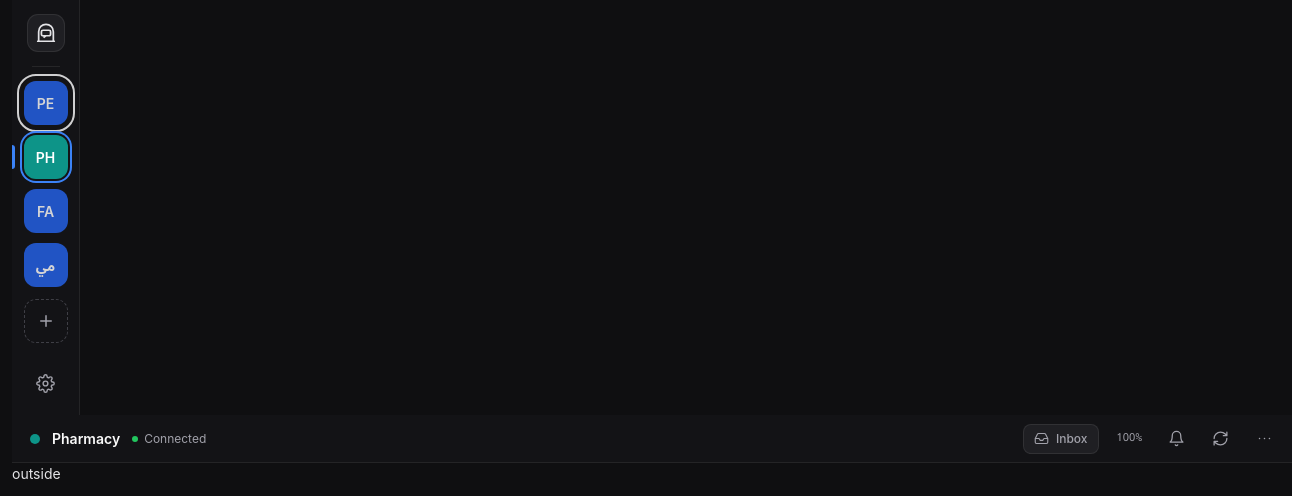
AccountMenu › is a labelled menu of menuitems, and the first item has focus
Right-click the button with aria-label "Personal" at (46, 103), box [24, 81, 68, 125]
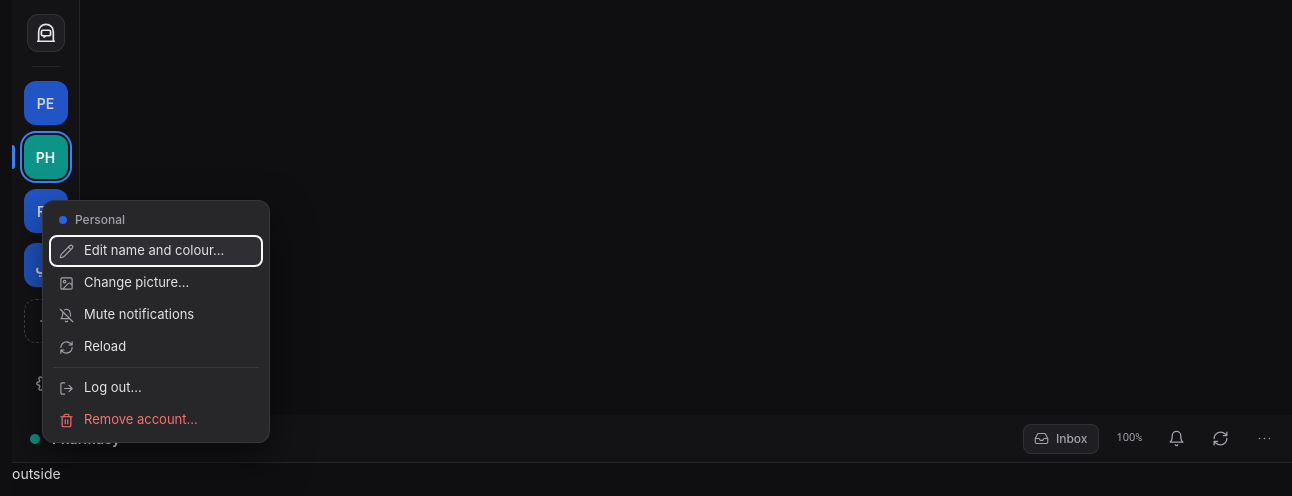
expect the menu named "Actions for Personal" is shown: met, box [49, 235, 263, 436]
